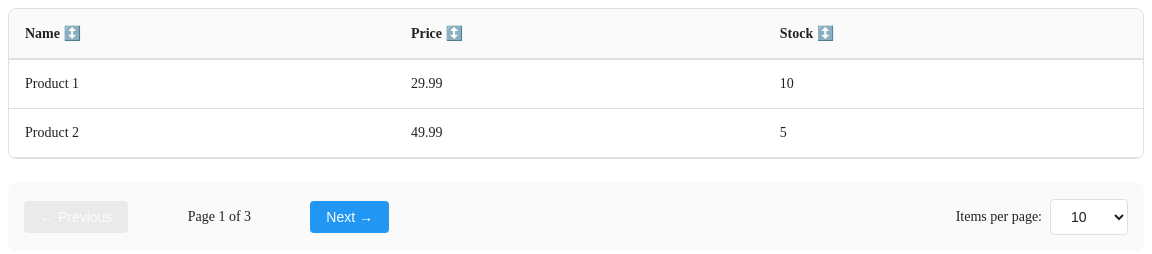
Test: Table Component › should change page when next button is clicked
Click the button "Next →" at (350, 217), box top-left (310, 201), bottom-right (389, 233)
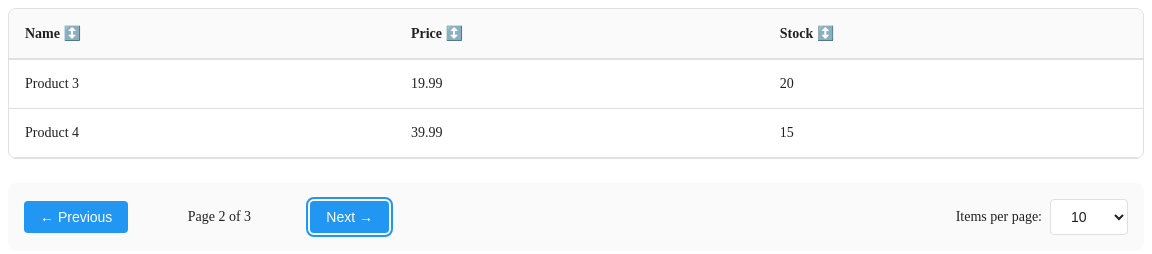
Expected: the text "Product 3" is shown, top-left (9, 59), bottom-right (395, 108)
Expected: the text "Product 1" is gone
